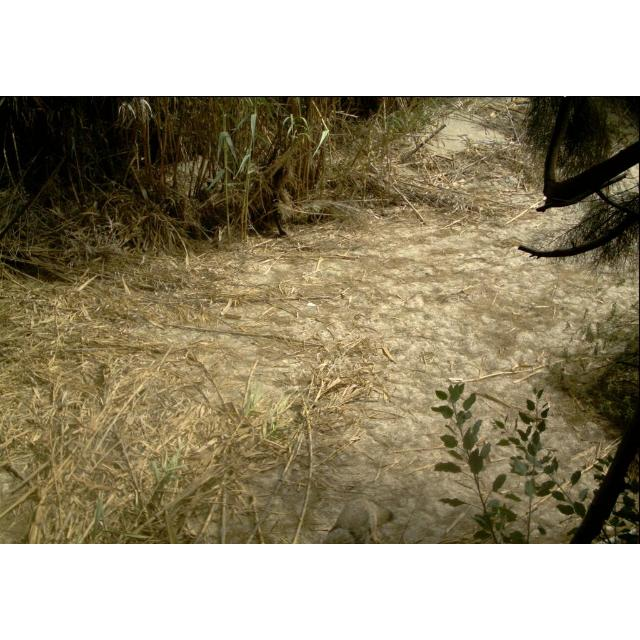animals: (316, 496, 398, 544)
